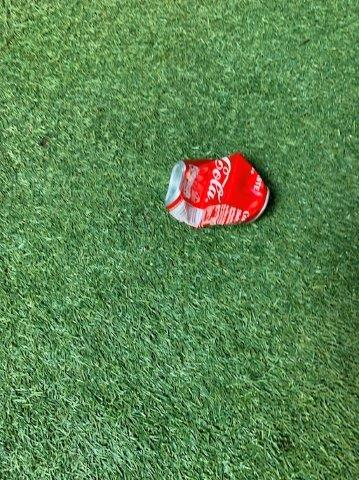kaleng: (167, 155, 268, 228)
